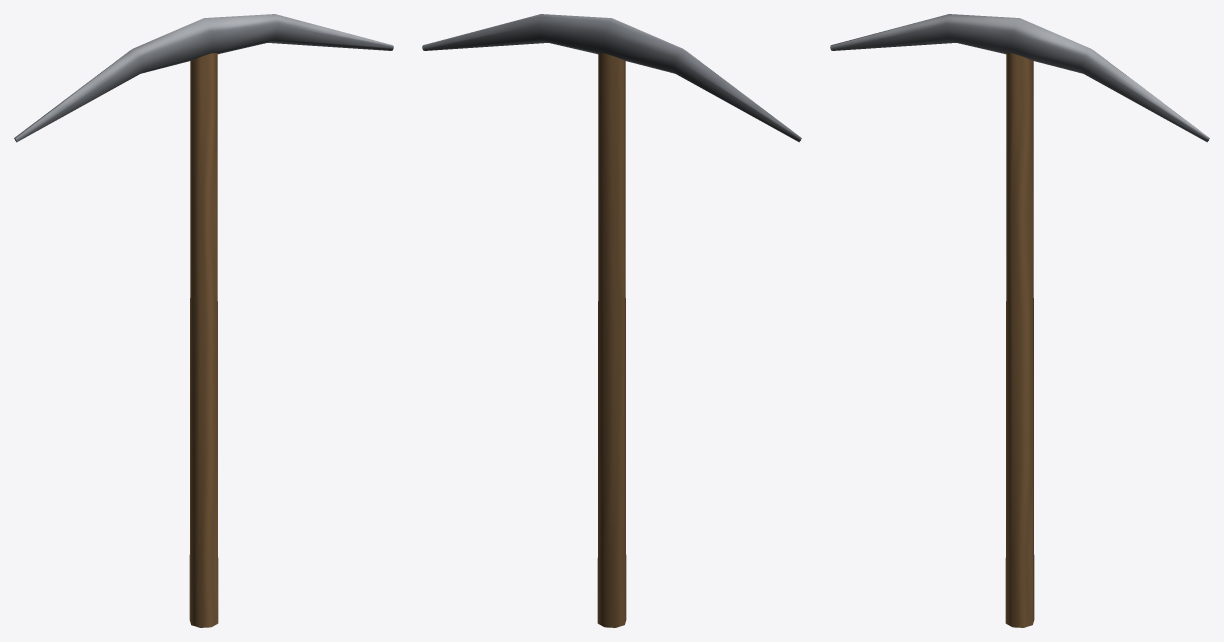
Rendered from pioche.glb.
3 views of the same model, side by side, from view 1: azimuth 30°, elevation 25°; view 2: azimuth 150°, elevation 25°; view 3: azimuth 330°, elevation 25° (orthographic).
Visible parts, largest first — view 1: pioche; view 2: pioche; view 3: pioche.
Boxes of the visible parts, x1,y1,x2,y2 form: pioche: (14, 14, 393, 627); pioche: (422, 14, 801, 627); pioche: (830, 14, 1209, 627).
Bounding box in the file's own units: 0.5629 × 0.858 × 0.0388.
Materials: 1 (1 with a texture image).
